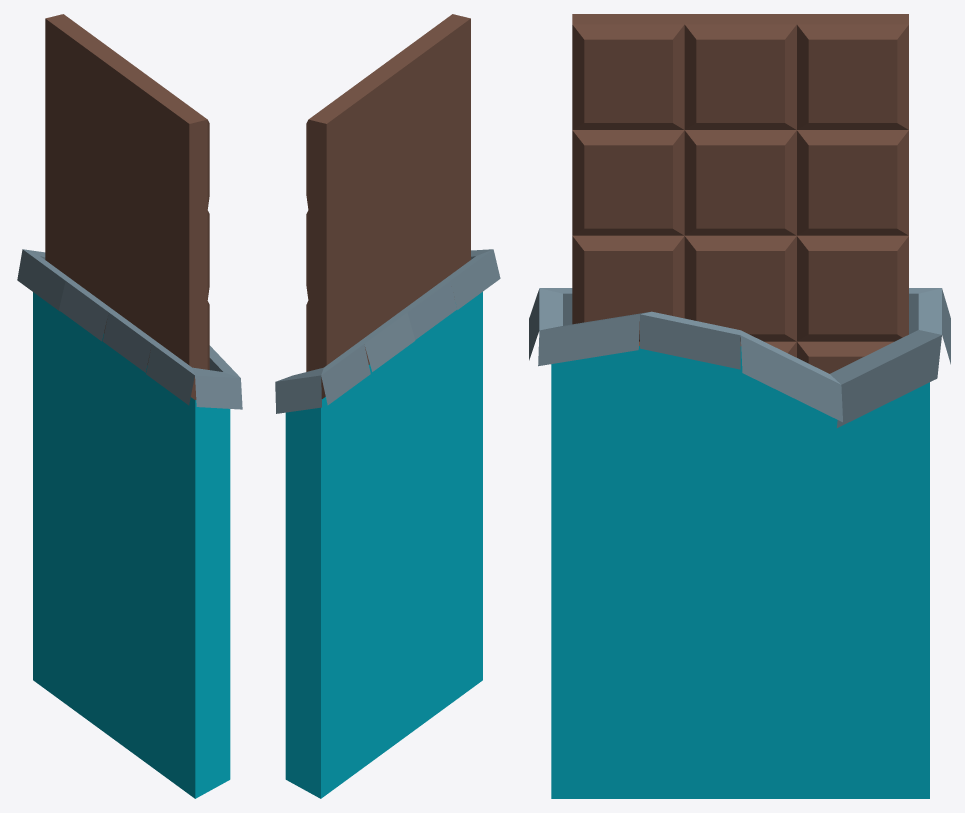
The model's file is Chocolate.glb.
3 views of the same model, side by side, from view 1: azimuth 30°, elevation 25°; view 2: azimuth 150°, elevation 25°; view 3: azimuth 270°, elevation 25° (orthographic). The views are drawn at different scales.
Parts seen in each view (by area): view 1: Cube.024_Cube.025; view 2: Cube.024_Cube.025; view 3: Cube.024_Cube.025.
Part boxes in pixels (bbox=[...]): Cube.024_Cube.025: bbox=[17, 14, 242, 798]; Cube.024_Cube.025: bbox=[275, 14, 500, 798]; Cube.024_Cube.025: bbox=[529, 14, 950, 798].
Bounding box in the file's own units: 0.9508 × 10.06 × 4.94.
